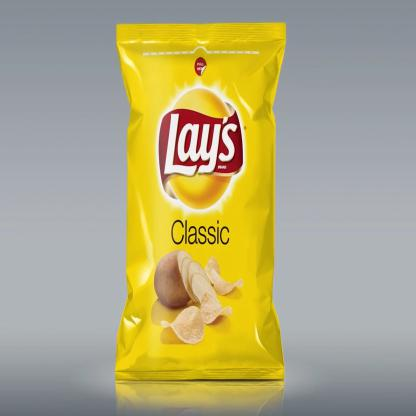potatochip: (115, 23, 288, 393)
